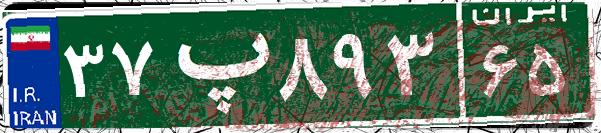3: (385, 28, 445, 110), (57, 26, 110, 107)
5: (525, 38, 570, 115)
6: (475, 38, 525, 113)
7: (110, 28, 158, 105)
8: (273, 28, 330, 110)
9: (330, 28, 385, 110)
پ: (158, 15, 273, 115)
